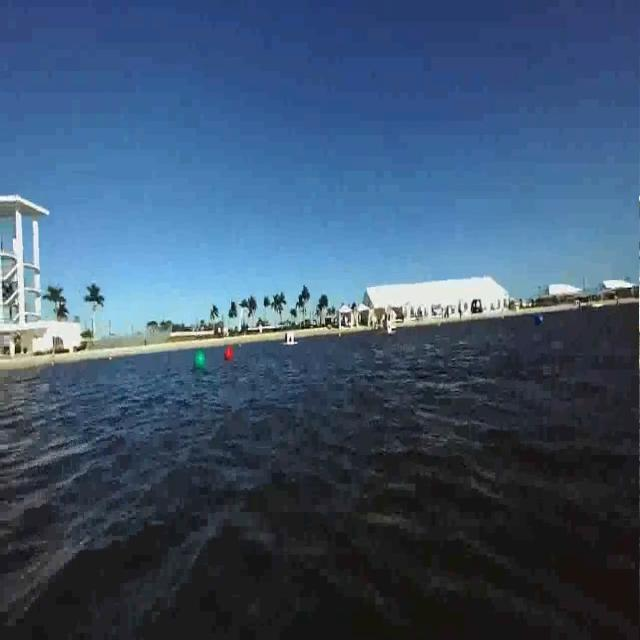green-buoy: (195, 349, 208, 371)
red-buoy: (224, 346, 233, 362)
